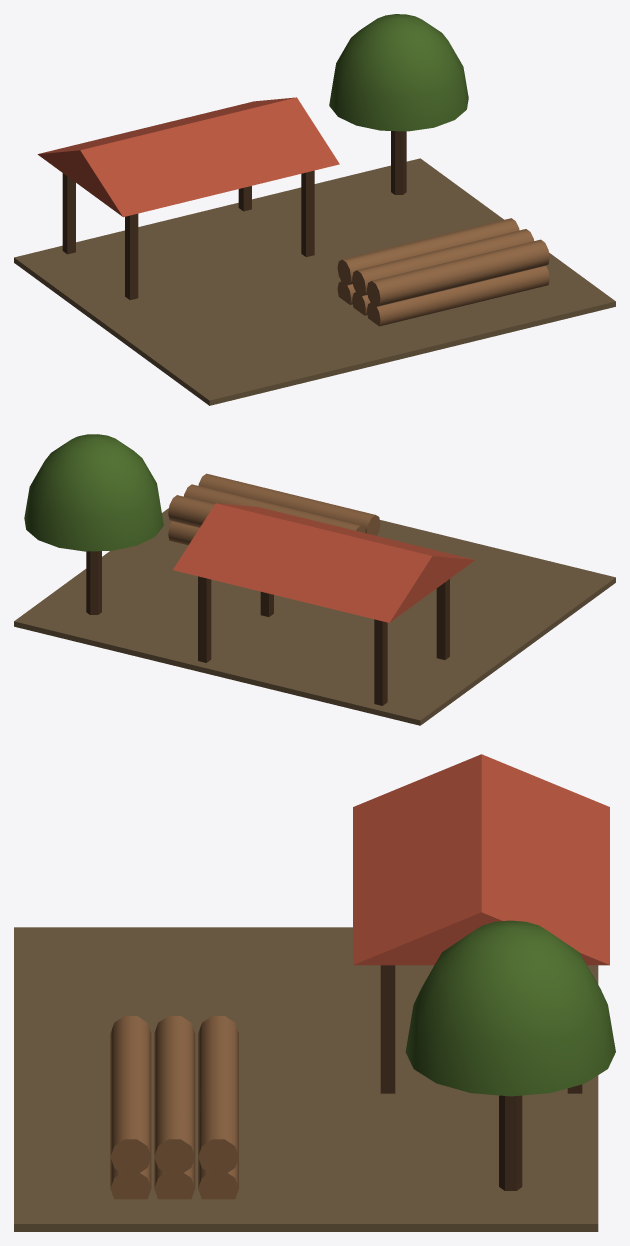
The model's file is lumber.glb.
The picture shows the model from 3 angles, top to bottom: view 1: azimuth 30°, elevation 25°; view 2: azimuth 150°, elevation 25°; view 3: azimuth 270°, elevation 25°; orthographic projection. The views are drawn at different scales.
Parts seen in each view (by area): view 1: Lumber; view 2: Lumber; view 3: Lumber.
Part boxes in pixels (bbox=[...]): Lumber: bbox=[14, 14, 615, 405]; Lumber: bbox=[14, 434, 615, 725]; Lumber: bbox=[14, 754, 615, 1231].
Bounding box in the file's own units: 12.3 × 5.04 × 10.3.
